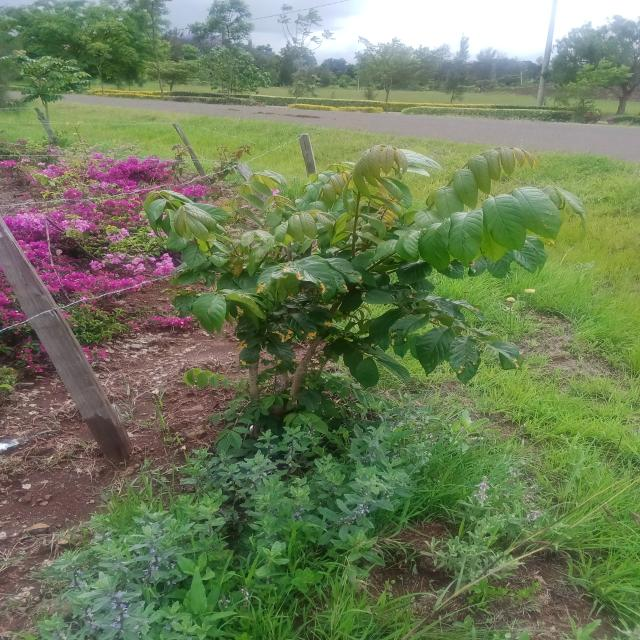Polyscias Kikuyensis: (118, 136, 586, 511), (13, 45, 99, 130)
